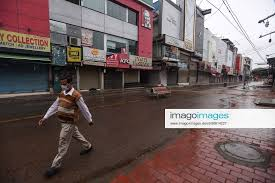mask: (59, 74, 73, 91)
